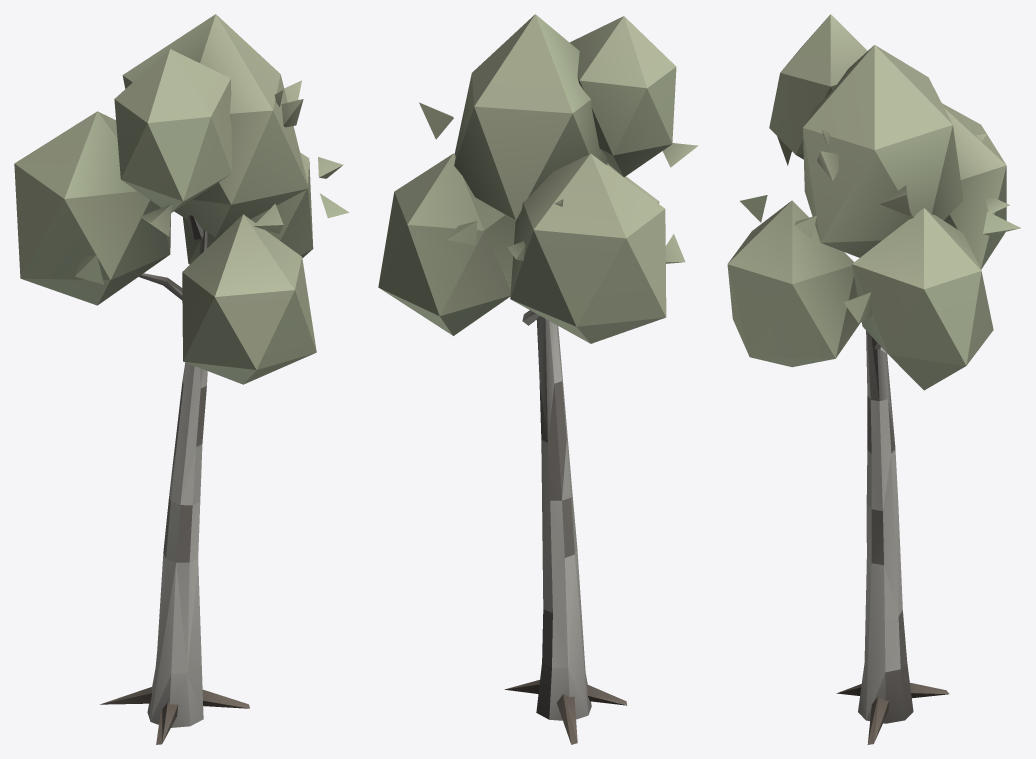
File: birch.lod1.glb
The picture shows the model from 3 angles, left to right: view 1: azimuth 30°, elevation 25°; view 2: azimuth 150°, elevation 25°; view 3: azimuth 270°, elevation 25°; orthographic projection. The views are drawn at different scales.
Bounding box in the file's own units: 2.99 × 6.88 × 2.67.
